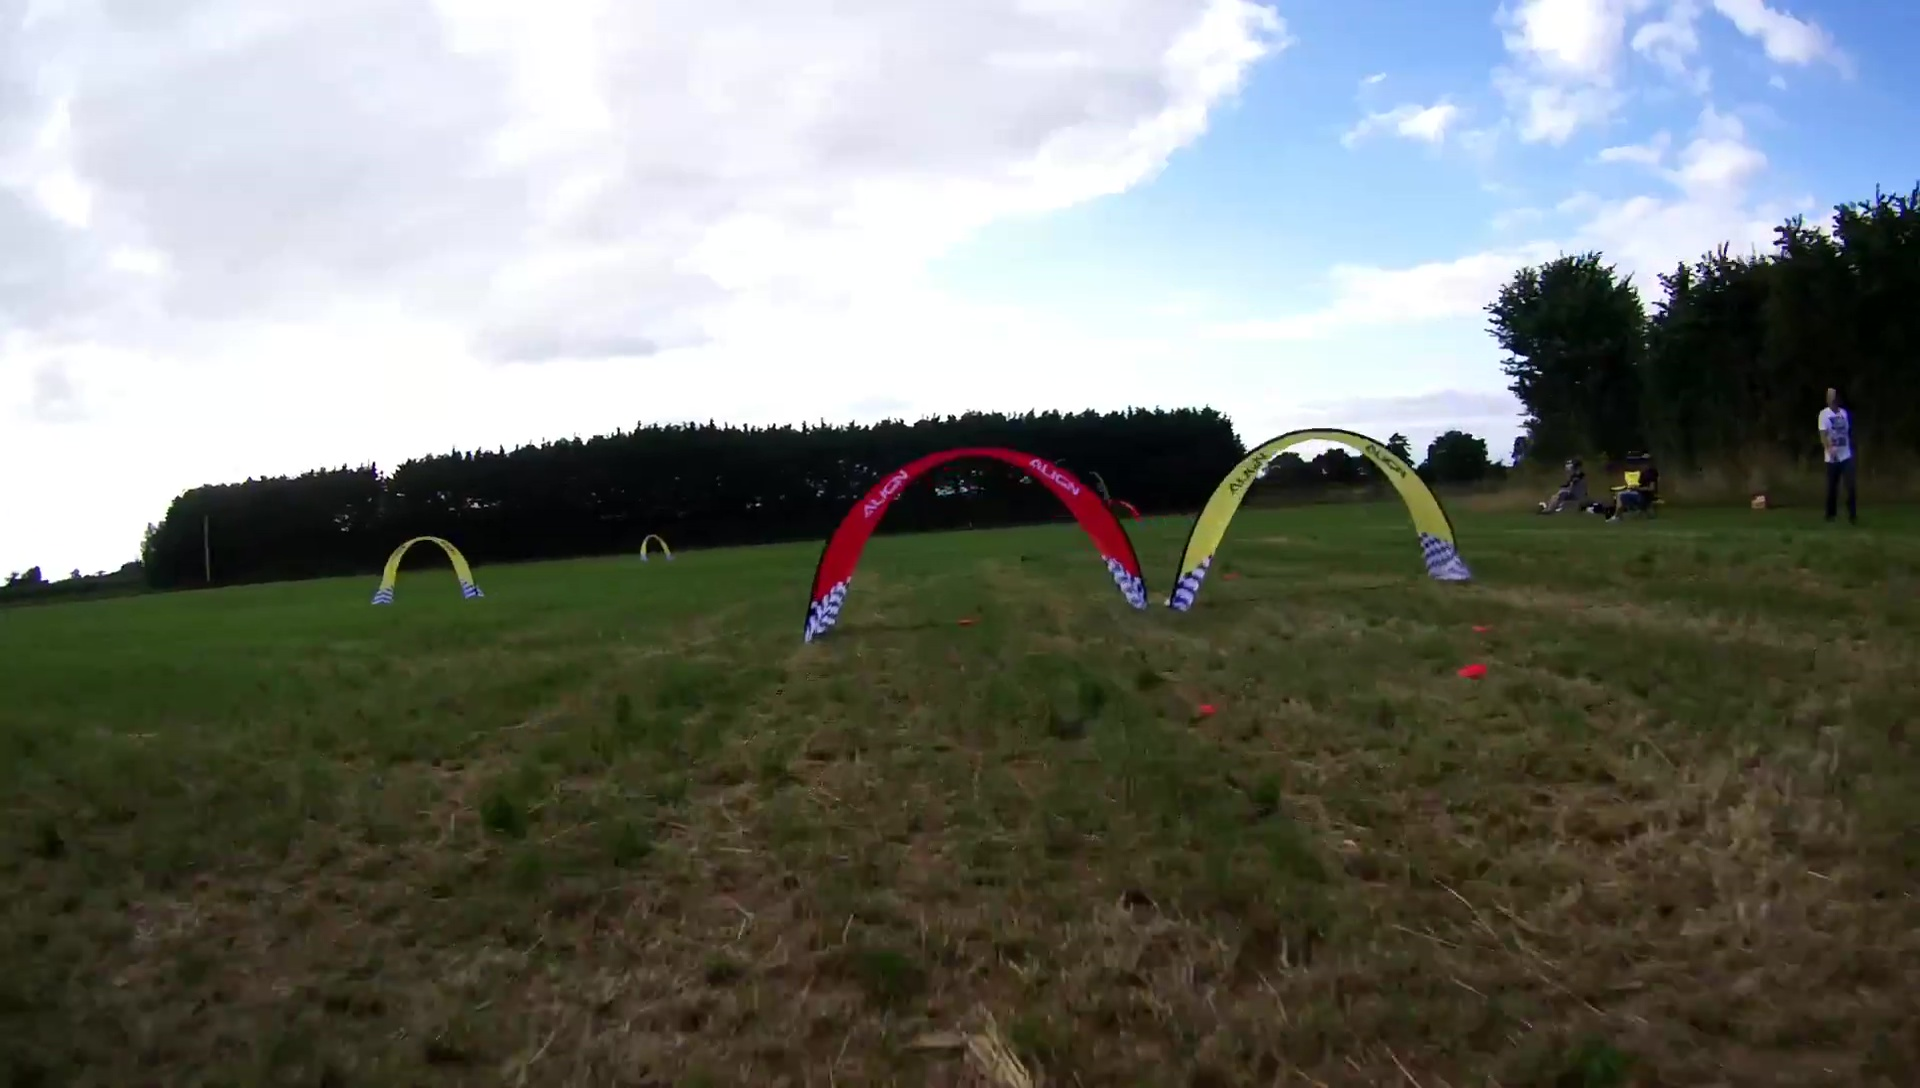gate: (800, 447, 1153, 645), (1170, 426, 1468, 617), (371, 535, 487, 611), (637, 534, 676, 564)
